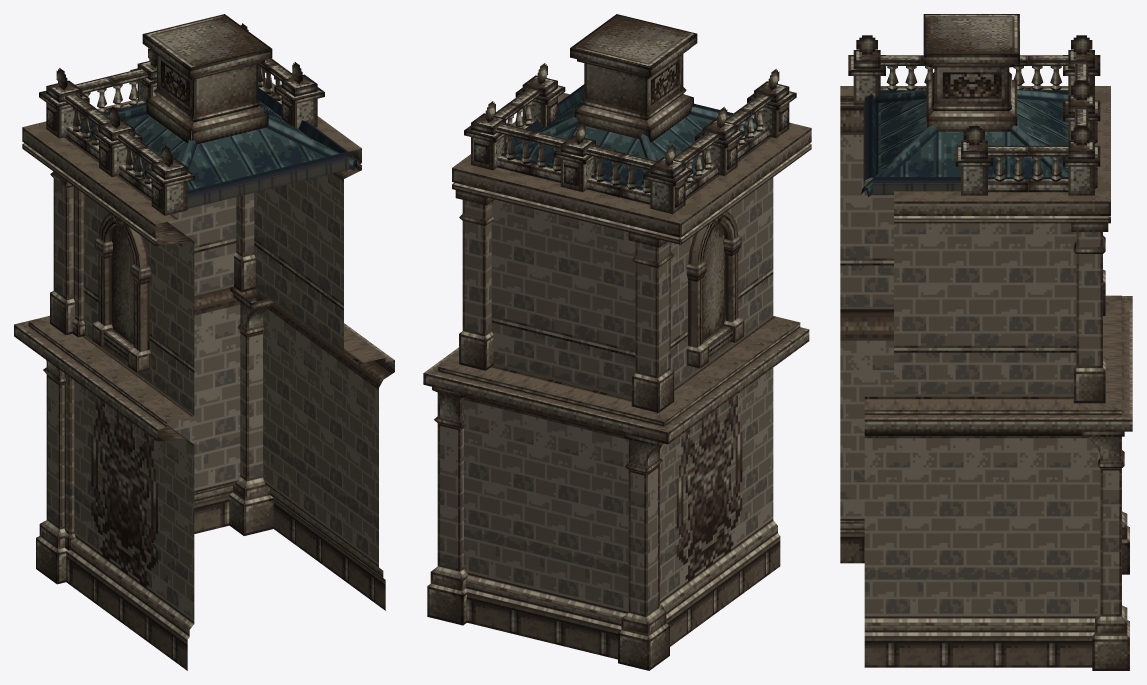
Rendered from EnvBdgMD_Theater_A_Outdoor_Side_L.FBX.
The picture shows the model from 3 angles, left to right: view 1: azimuth 30°, elevation 25°; view 2: azimuth 150°, elevation 25°; view 3: azimuth 270°, elevation 25°; orthographic projection. The views are drawn at different scales.
Parts seen in each view (by area): view 1: EnvBdgMD_Theater_A_Outdoor_Side_L; view 2: EnvBdgMD_Theater_A_Outdoor_Side_L; view 3: EnvBdgMD_Theater_A_Outdoor_Side_L.
Boxes of the visible parts, x1,y1,x2,y2 form: EnvBdgMD_Theater_A_Outdoor_Side_L: (14, 14, 394, 670); EnvBdgMD_Theater_A_Outdoor_Side_L: (423, 14, 811, 670); EnvBdgMD_Theater_A_Outdoor_Side_L: (840, 14, 1132, 670).
Size of the model in its own units: 551 by 1175 by 545.
Materials: 1 (1 with a texture image).
